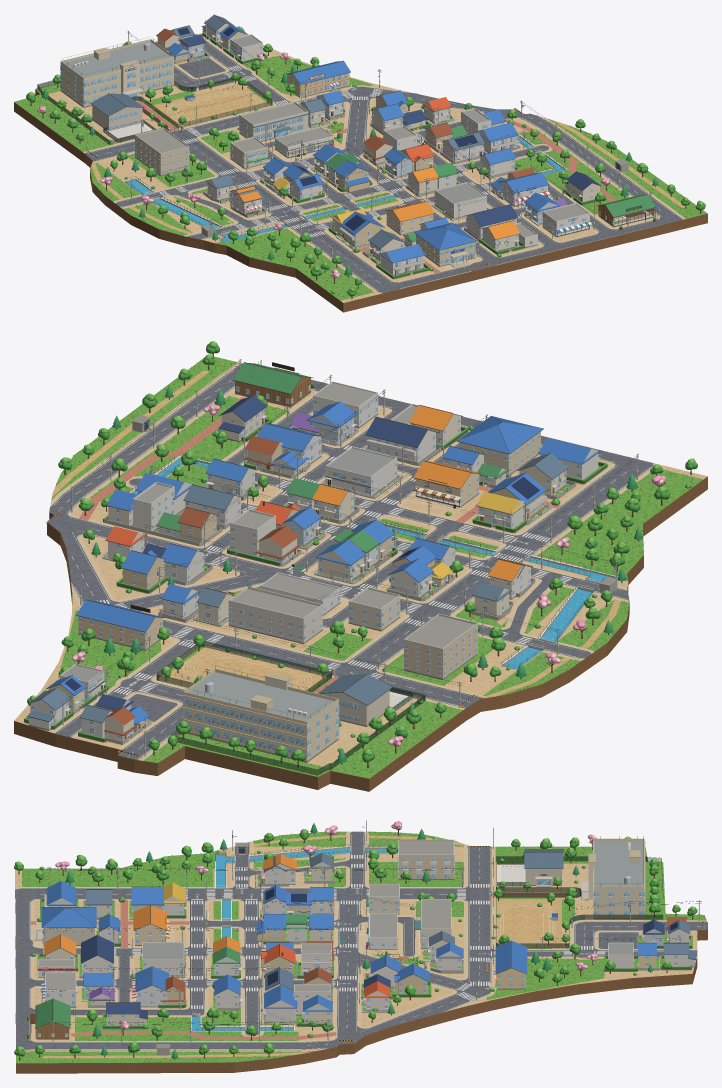
The model's file is kazami.glb.
3 renders of one model, top to bottom at view 1: azimuth 30°, elevation 25°; view 2: azimuth 150°, elevation 25°; view 3: azimuth 270°, elevation 25°, orthographic. The views are drawn at different scales.
Parts seen in each view (by area): view 1: Terrain_grass, MainRoads_asphalt, Terrain_edge, ResidentialRoads_asphalt, Sidewalks_paving, Terrain_lots, KazamiElementarySchool_main, Sidewalks_curb, ResidentialAreas_walls, RoadMarkings, SchoolGround_dirt, CommunityHall (+44 smaller); view 2: Terrain_grass, MainRoads_asphalt, Sidewalks_paving, Terrain_lots, KazamiElementarySchool_main, Terrain_edge, ResidentialRoads_asphalt, ResidentialAreas_walls, RoadMarkings, Sidewalks_curb, CommunityHall, Apartment (+58 smaller); view 3: Terrain_grass, MainRoads_asphalt, ResidentialRoads_asphalt, Terrain_lots, Sidewalks_paving, Terrain_edge, KazamiElementarySchool_main, RoadMarkings, Sidewalks_curb, ResidentialAreas_walls, Terrain_paths, SchoolGround_dirt (+59 smaller).
Boxes of the visible parts, x1,y1,x2,y2 form: Terrain_grass: (14,55,707,300); MainRoads_asphalt: (85,66,682,293); Terrain_edge: (14,89,707,312); ResidentialRoads_asphalt: (116,34,668,288); Sidewalks_paving: (83,33,685,294); Terrain_lots: (48,33,654,302); KazamiElementarySchool_main: (60,37,174,107); Sidewalks_curb: (84,34,682,293); ResidentialAreas_walls: (174,32,597,279); RoadMarkings: (88,42,674,290); SchoolGround_dirt: (151,84,270,127); CommunityHall: (239,101,308,141); Terrain_grass: (51,356,703,778); MainRoads_asphalt: (47,363,653,759); Sidewalks_paving: (50,362,658,760); Terrain_lots: (14,391,707,767); KazamiElementarySchool_main: (183,665,339,762); Terrain_edge: (14,476,707,791); ResidentialRoads_asphalt: (50,380,630,737); ResidentialAreas_walls: (24,418,607,744); RoadMarkings: (54,370,649,758); Sidewalks_curb: (50,363,654,759); CommunityHall: (228,586,322,644); Apartment: (403,613,477,679); Terrain_grass: (16,831,706,1063); MainRoads_asphalt: (15,845,707,1049); ResidentialRoads_asphalt: (15,831,697,1042); Terrain_lots: (15,846,697,1040); Sidewalks_paving: (15,831,706,1051); Terrain_edge: (15,853,707,1073); KazamiElementarySchool_main: (581,836,645,919); RoadMarkings: (29,834,704,1049); Sidewalks_curb: (15,831,707,1050); ResidentialAreas_walls: (37,869,692,1029); Terrain_paths: (31,835,578,1058); SchoolGround_dirt: (495,899,561,947).
Size of the model in its own units: 191 by 18.4 by 242.
Materials: 47 (44 with a texture image).
